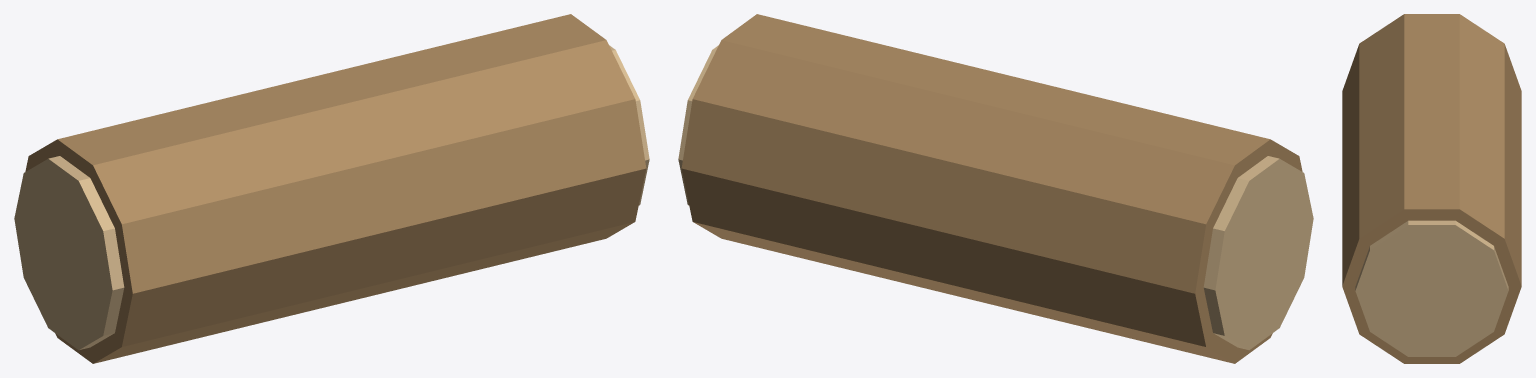
File: log.glb
3 views of the same model, side by side, from view 1: azimuth 30°, elevation 25°; view 2: azimuth 150°, elevation 25°; view 3: azimuth 270°, elevation 25° (orthographic). The views are drawn at different scales.
Visible parts, largest first — view 1: Log; view 2: Log; view 3: Log.
Part boxes in pixels (left/top/right/bottom): Log: left=14, top=14, right=649, bottom=363; Log: left=678, top=14, right=1313, bottom=363; Log: left=1342, top=14, right=1521, bottom=363.
Size of the model in its own units: 1.83 by 0.6467 by 0.68.
